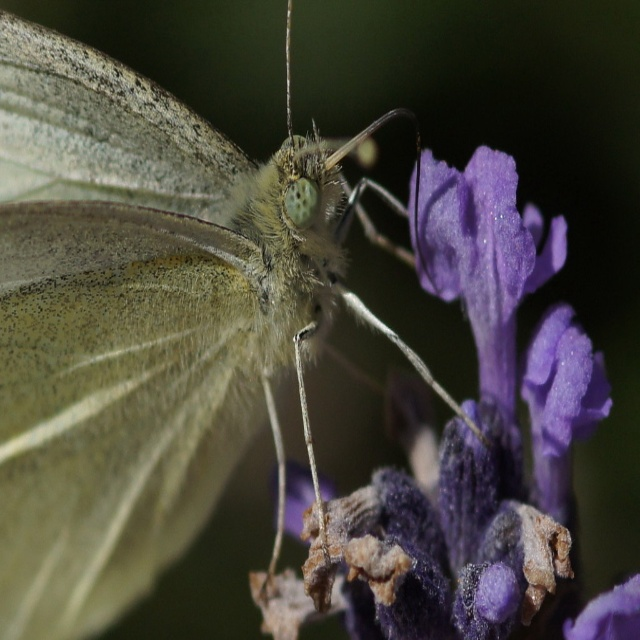Butterfly: (0, 0, 483, 639)
